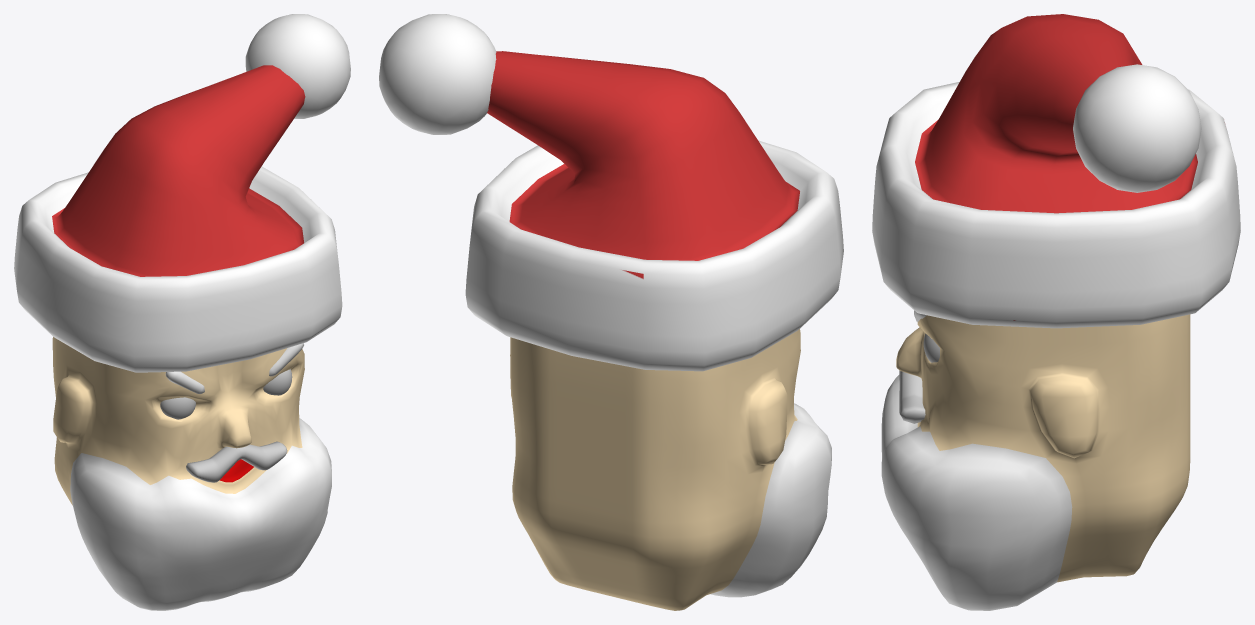
Rendered from santaHeadAngry.fbx.
3 views of the same model, side by side, from view 1: azimuth 30°, elevation 25°; view 2: azimuth 150°, elevation 25°; view 3: azimuth 270°, elevation 25° (orthographic). The views are drawn at different scales.
Parts seen in each view (by area): view 1: hat.001, head.001, mustache.001, eyeL.001, eyeR.001, eyeBrowL.002; view 2: hat.001, head.001; view 3: hat.001, head.001, mustache.001.
Boxes of the visible parts, box(x1,y1,x2,y2) form: hat.001: box(14, 14, 350, 372); head.001: box(52, 337, 331, 610); mustache.001: box(186, 441, 287, 482); eyeL.001: box(160, 397, 195, 419); eyeR.001: box(263, 369, 292, 395); eyeBrowL.002: box(165, 371, 204, 393); hat.001: box(379, 14, 843, 371); head.001: box(510, 329, 831, 610); hat.001: box(872, 14, 1240, 328); head.001: box(881, 314, 1190, 610); mustache.001: box(899, 370, 925, 423).
Size of the model in its own units: 346 by 494 by 275.
